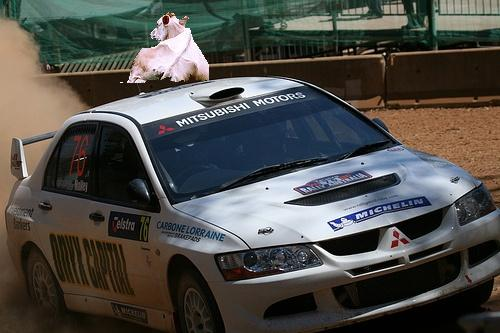tampered: (121, 13, 209, 83)
